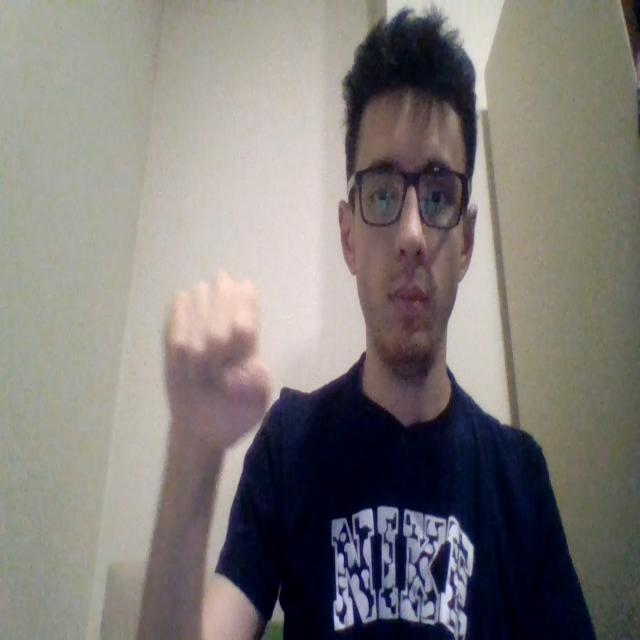yes: (164, 270, 272, 454)
